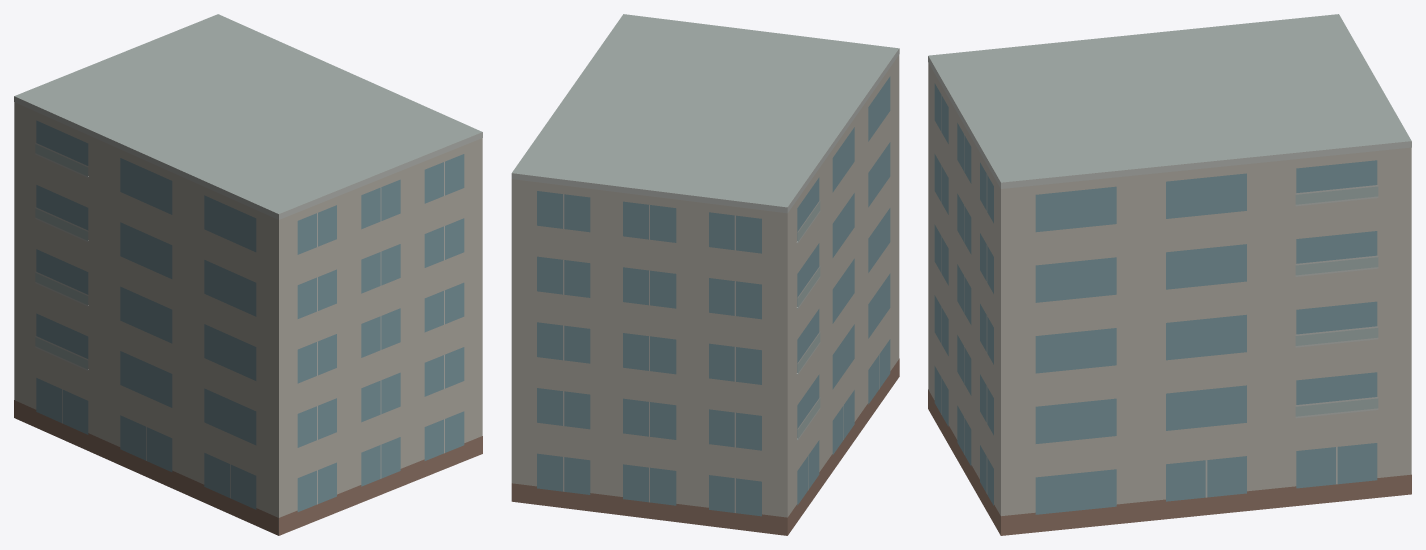
Rendered from survey-upis-32676618.glb.
3 renders of one model, left to right at view 1: azimuth 30°, elevation 25°; view 2: azimuth 150°, elevation 25°; view 3: azimuth 270°, elevation 25°, orthographic. The views are drawn at different scales.
Visible parts, largest first — view 1: survey-upis-32676618.tmp; view 2: survey-upis-32676618.tmp; view 3: survey-upis-32676618.tmp.
Part boxes in pixels (box(x1,y1,x2,y2)): survey-upis-32676618.tmp: box(14, 14, 482, 535); survey-upis-32676618.tmp: box(511, 14, 899, 535); survey-upis-32676618.tmp: box(928, 14, 1411, 535).
Bounding box in the file's own units: 13.78 × 13.45 × 16.7.
